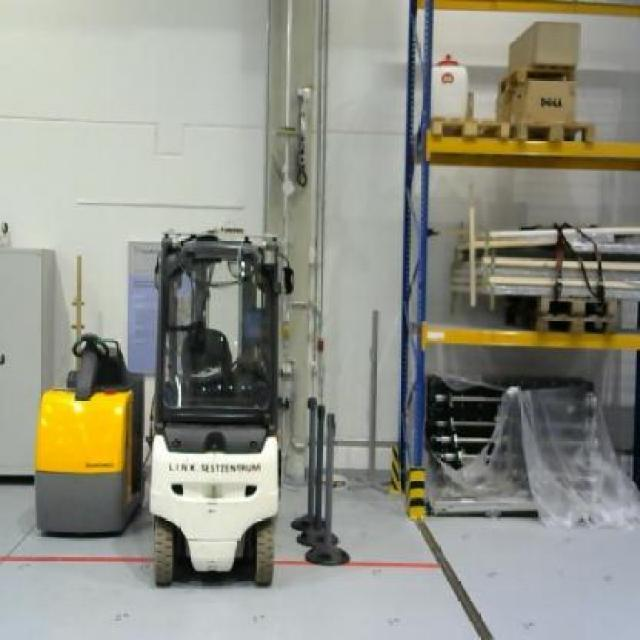box: (490, 77, 576, 123), (507, 20, 581, 69)
